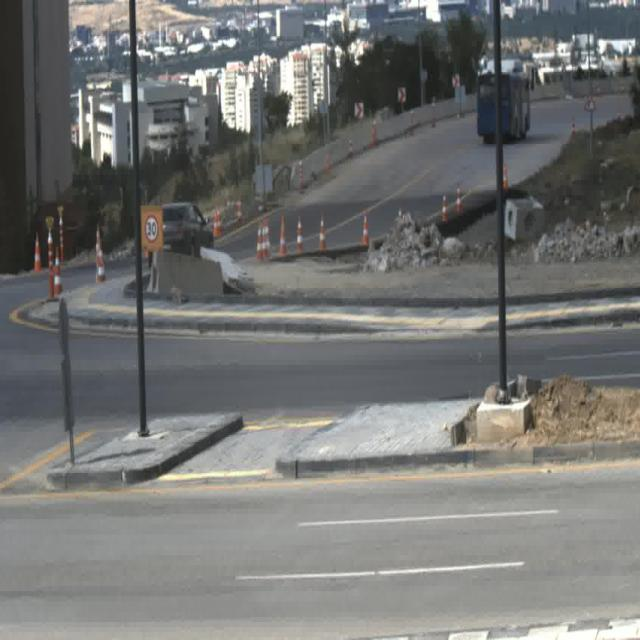Bus: (477, 63, 533, 148)
Car: (150, 198, 213, 266)
